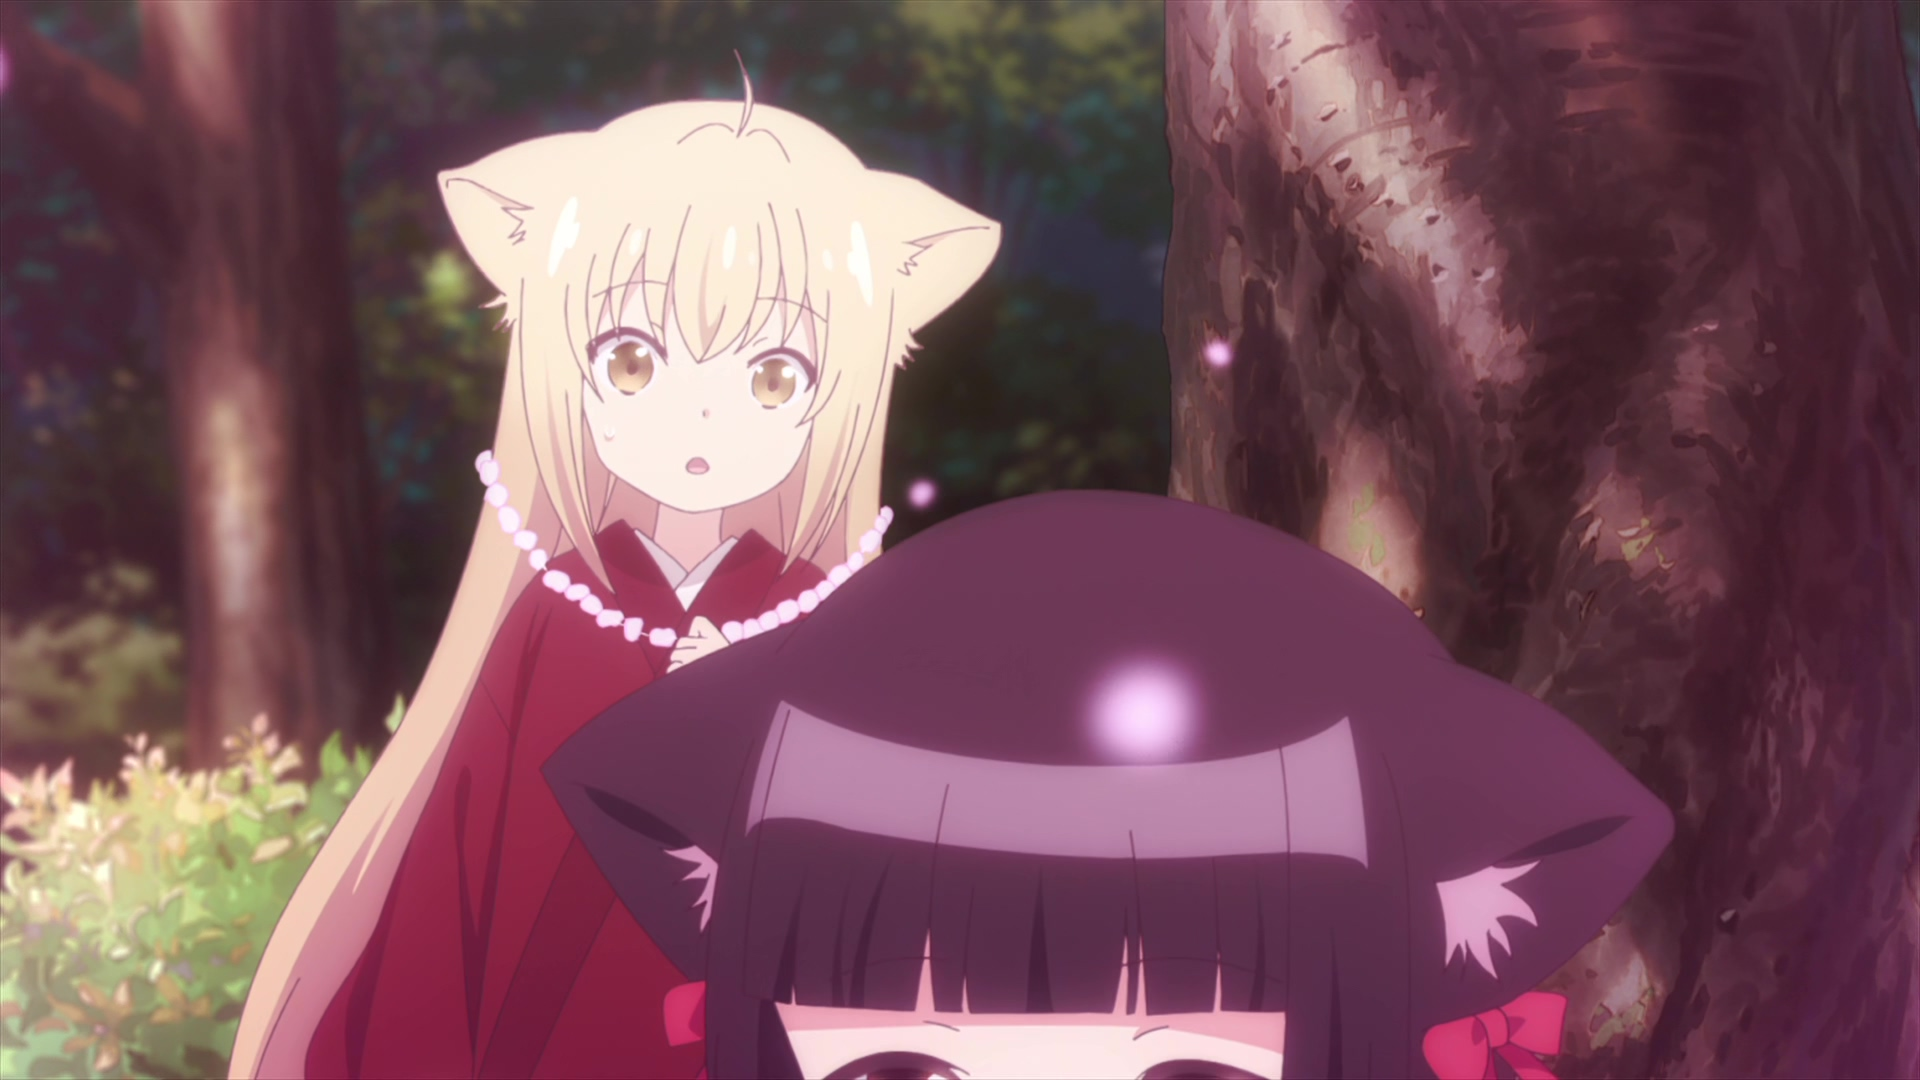柚: (232, 53, 1002, 1080)
樱: (541, 487, 1675, 1080)
